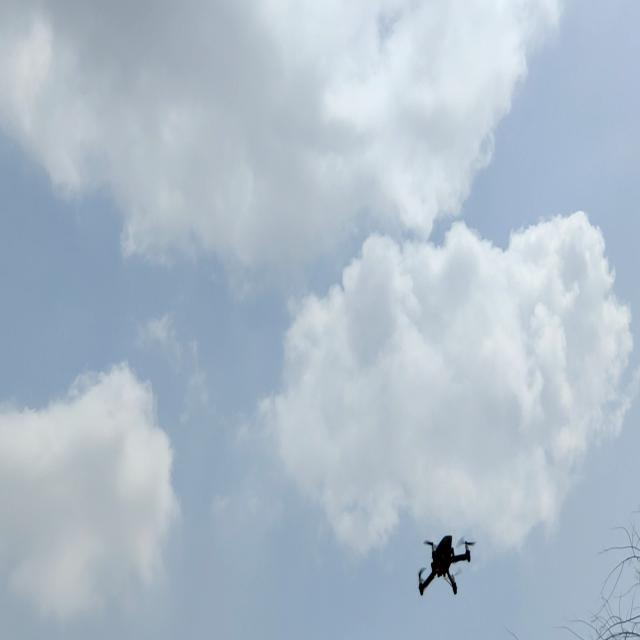drone: (414, 529, 476, 606)
